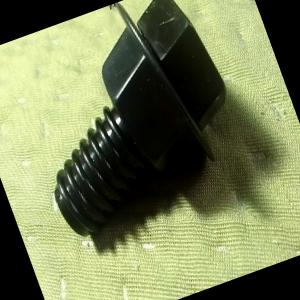parafuso: (0, 0, 259, 244)
